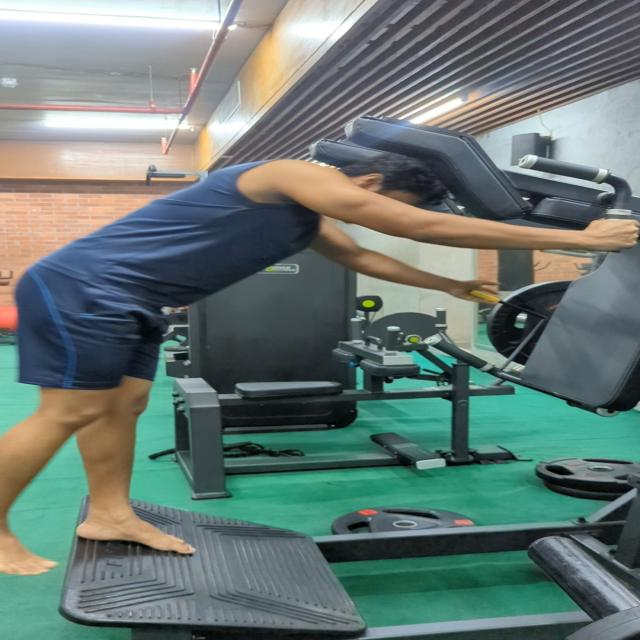Normal_SquatsWithBarbell: (0, 132, 640, 640)
